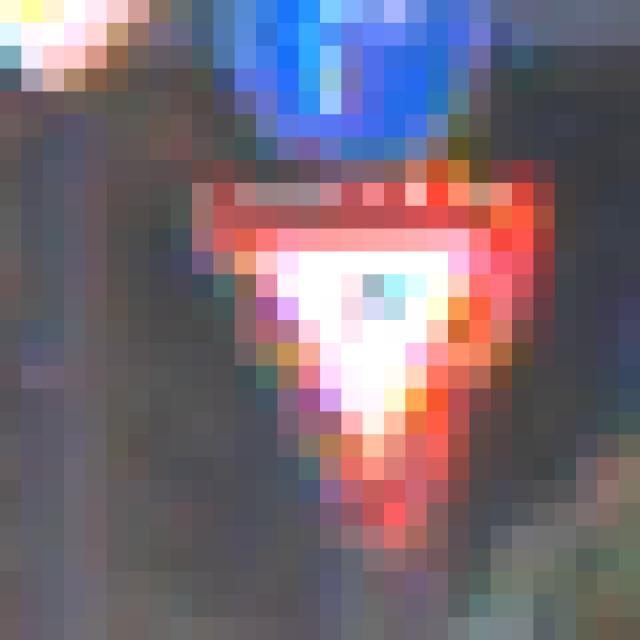Give Way: (129, 115, 534, 527)
